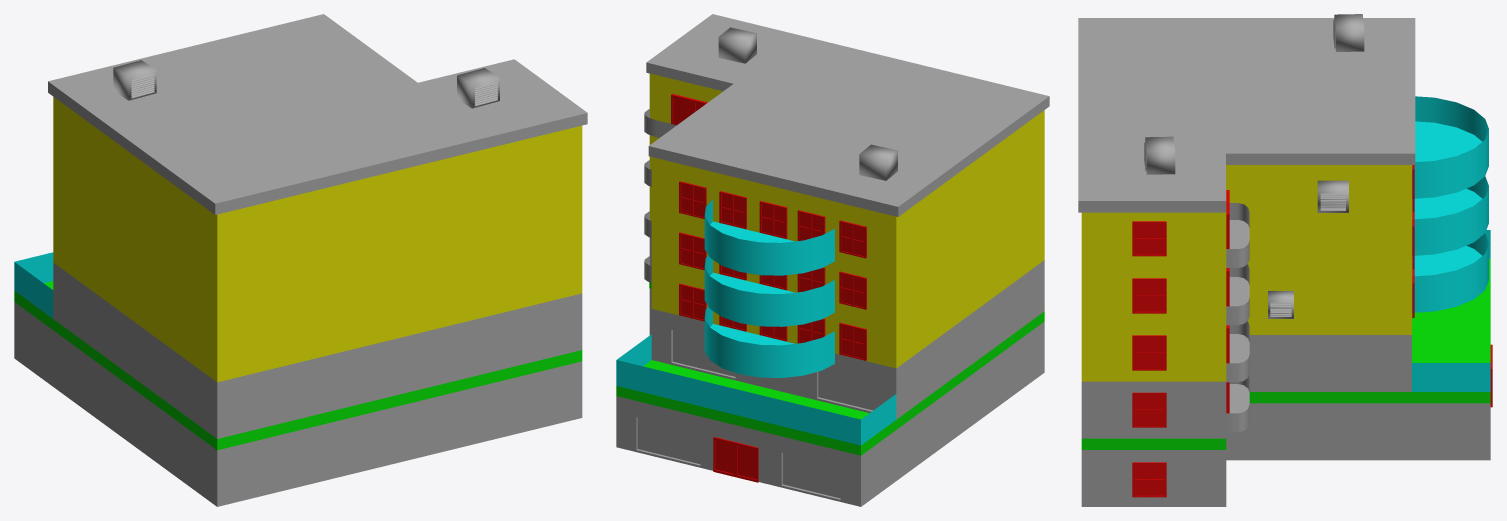
The model's file is Hotel_4_PreBuilt_1.fbx.
3 views of the same model, side by side, from view 1: azimuth 30°, elevation 25°; view 2: azimuth 150°, elevation 25°; view 3: azimuth 270°, elevation 25° (orthographic). The views are drawn at different scales.
Visible parts, largest first — view 1: polySurface16; view 2: polySurface16; view 3: polySurface16.
Part boxes in pixels (x1,y1,x2,y2): polySurface16: (14,14,587,506); polySurface16: (616,14,1049,506); polySurface16: (1078,14,1492,506).
Size of the model in its own units: 2754 by 2321 by 2634.
